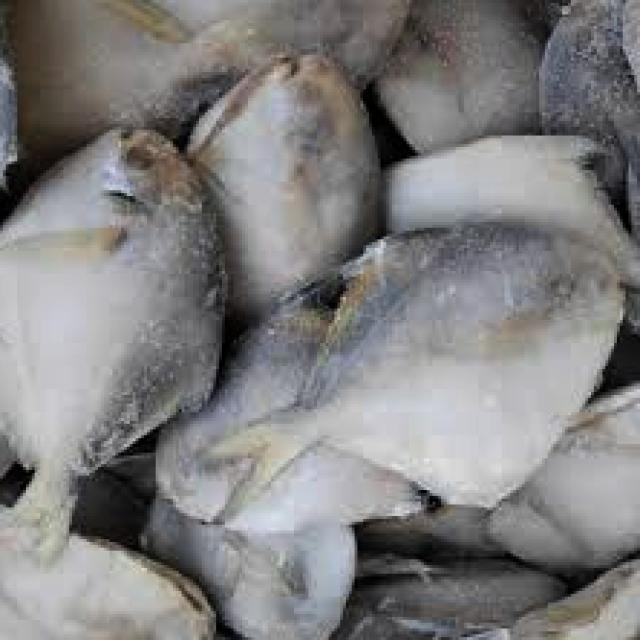pomfred: (189, 222, 627, 519)
